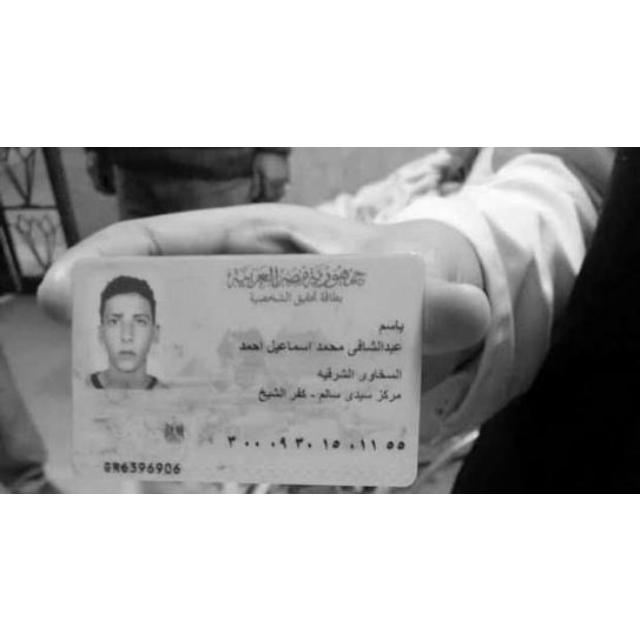id_card: (76, 255, 420, 489)
